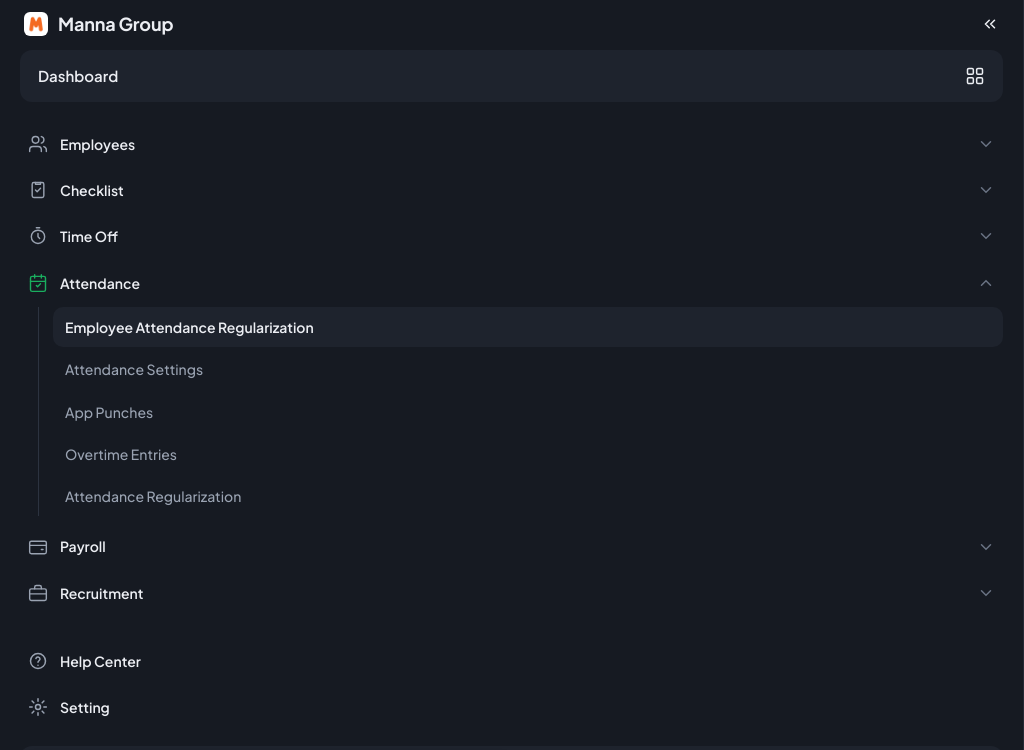
Test case: the side menu › opens and shuts a group on its button, and opens the current one by itself
Click the button "Employees" at (98, 144), box [20, 122, 1003, 166]
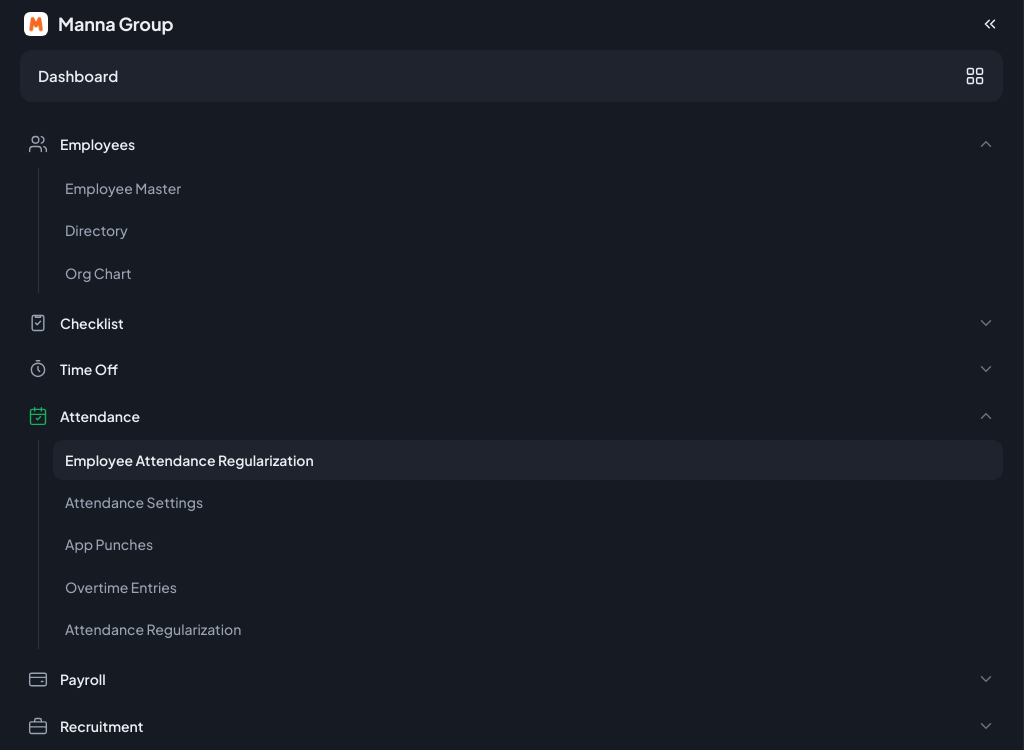
Result: the button "Employees" is expanded
Click the button "Employees" at (98, 144), box [20, 122, 1003, 166]
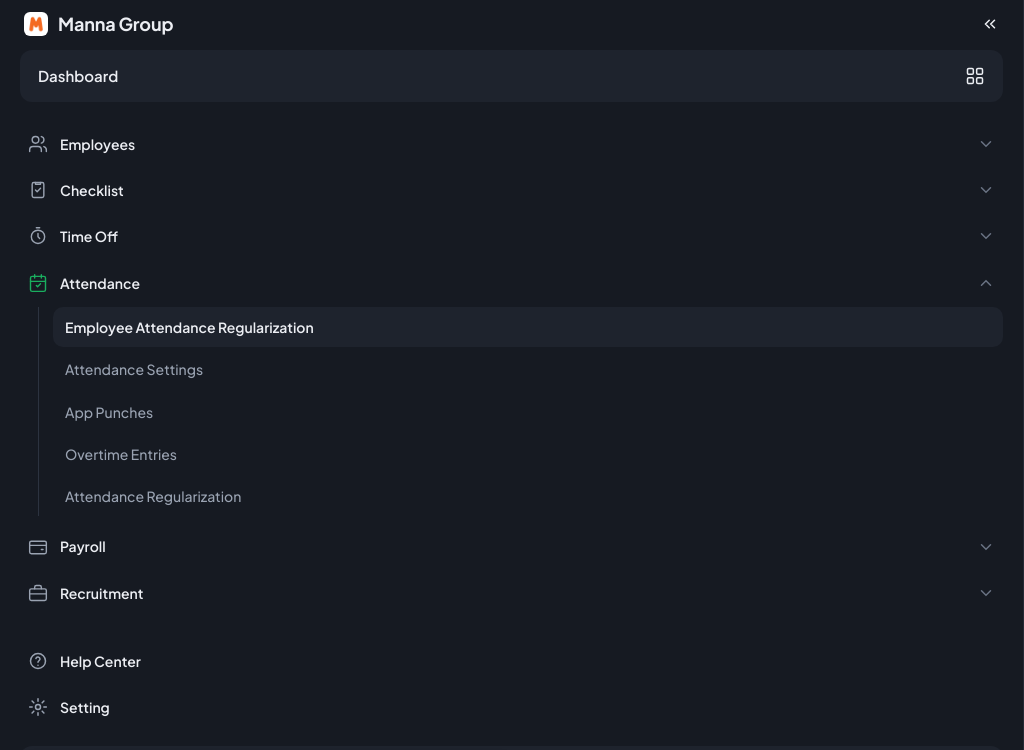
Result: the button "Employees" is collapsed at [20, 122, 1003, 166]
